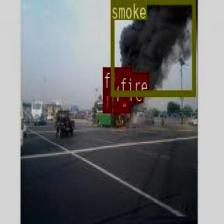fire: (102, 88, 112, 112), (118, 93, 128, 112), (113, 102, 119, 113)
smoke: (110, 0, 194, 96)
